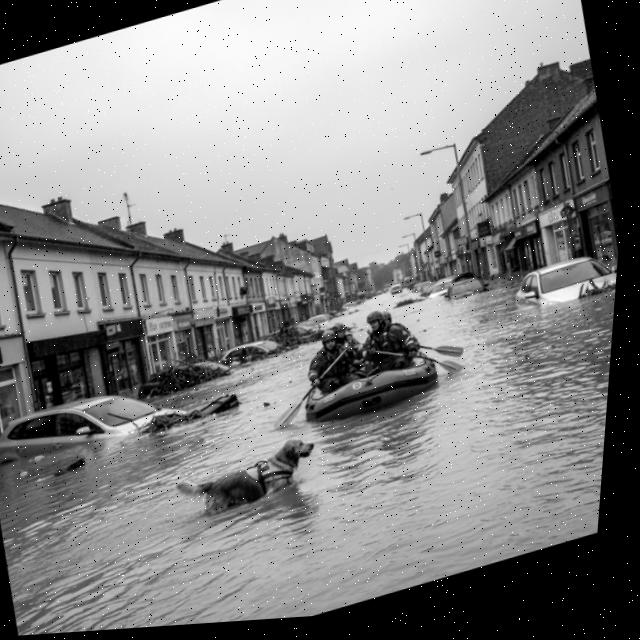dog: (163, 411, 338, 537)
rescuer: (296, 315, 367, 408), (354, 299, 421, 382), (323, 311, 377, 388), (375, 296, 430, 367)
